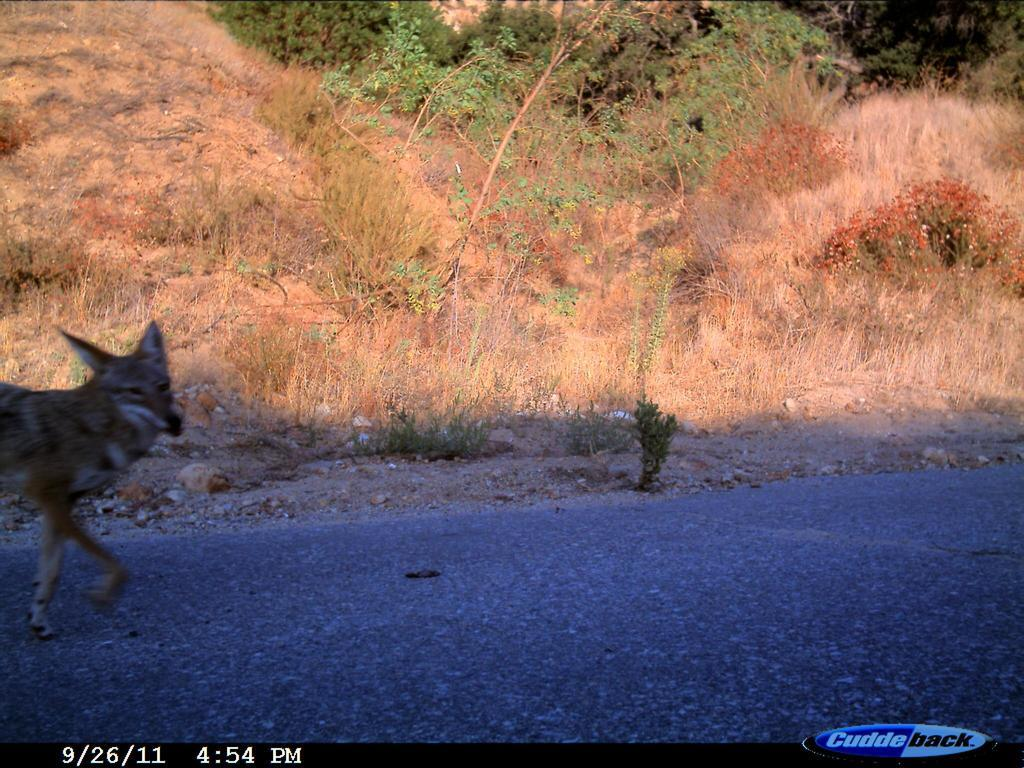coyote: (3, 310, 187, 642)
